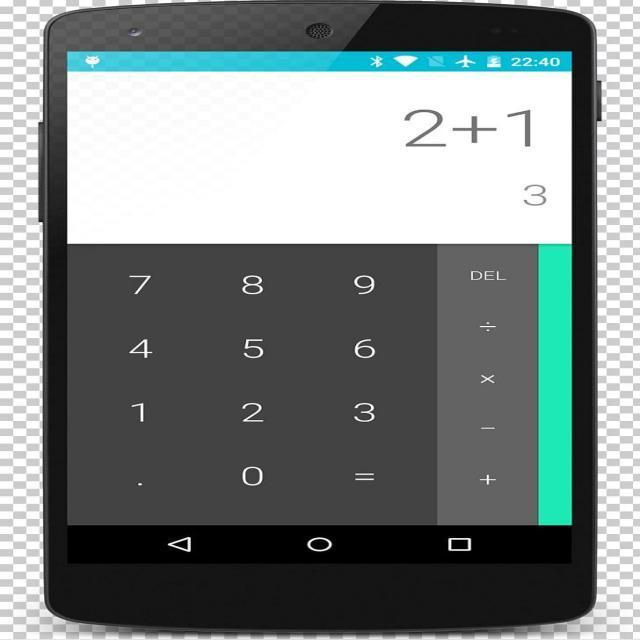Calculator: (35, 3, 610, 633)
